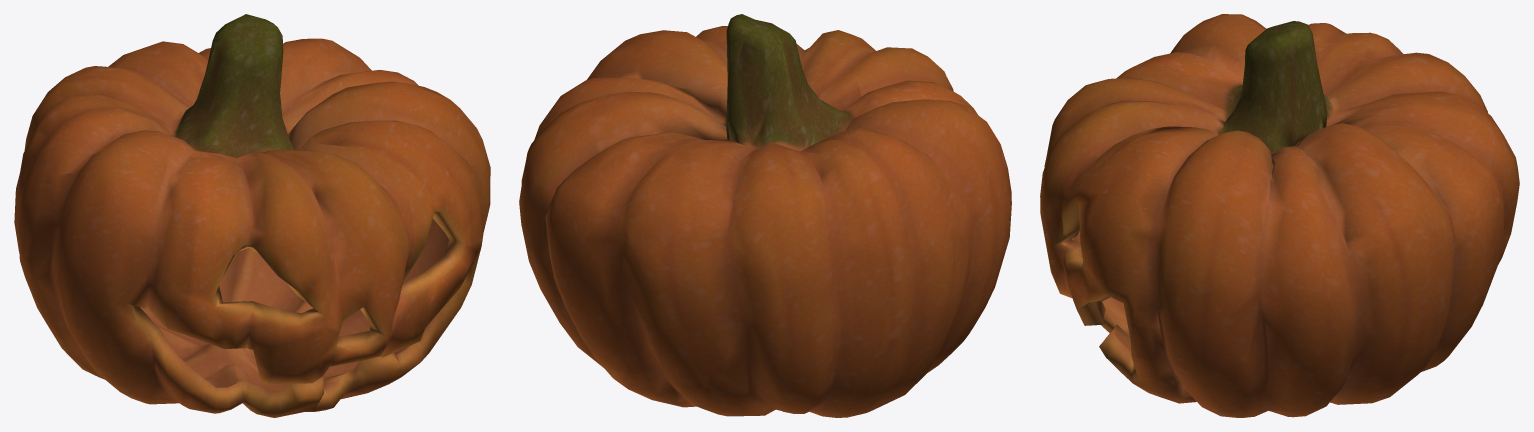
The model's file is calabaza.obj.
3 views of the same model, side by side, from view 1: azimuth 30°, elevation 25°; view 2: azimuth 150°, elevation 25°; view 3: azimuth 270°, elevation 25° (orthographic). The views are drawn at different scales.
Parts seen in each view (by area): view 1: Halloween_Pumpkin; view 2: Halloween_Pumpkin; view 3: Halloween_Pumpkin.
Boxes of the visible parts, x1,y1,x2,y2 form: Halloween_Pumpkin: [14, 14, 490, 417]; Halloween_Pumpkin: [519, 14, 1011, 417]; Halloween_Pumpkin: [1040, 14, 1519, 417].
Bounding box in the file's own units: 1.91 × 1.54 × 1.9.
